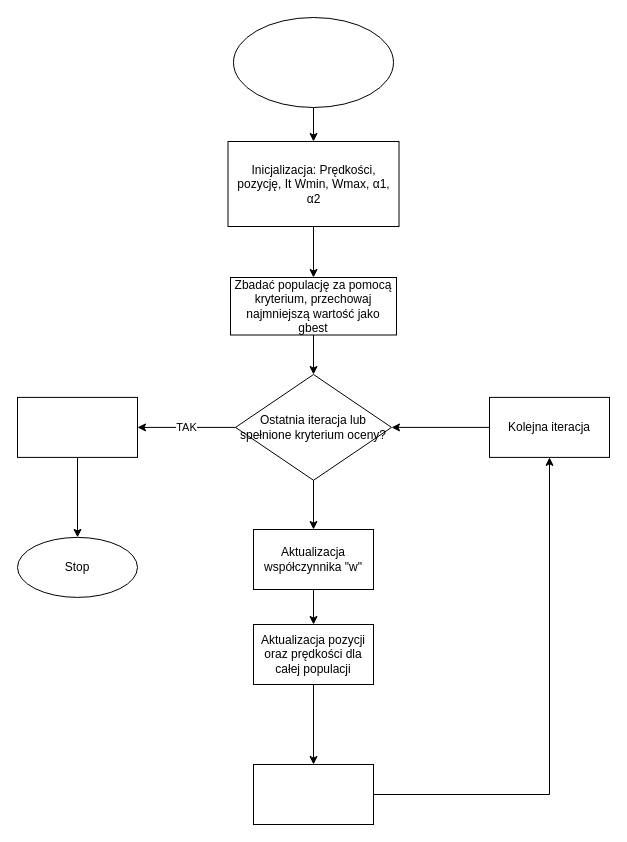
Image size: 627x842. Some labels were removed from this diagram. Each missing label, with the centre of its shape:
Aktualizacja gbest oraz Pbest: the point at 313,794
Przechowaj najlepsze próbki gbest: the point at 77,426
Start: Zdefiniować przestrzeń poszukiwań, populację oraz kryterium oceny: the point at 313,62
